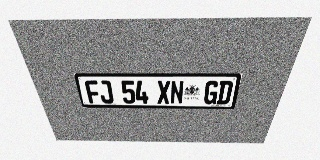4: (134, 80, 149, 104)
5: (121, 80, 136, 104)
D: (216, 81, 234, 104)
F: (84, 80, 102, 103)
G: (203, 81, 220, 104)
J: (97, 80, 114, 103)
N: (170, 81, 184, 104)
X: (157, 80, 170, 104)
